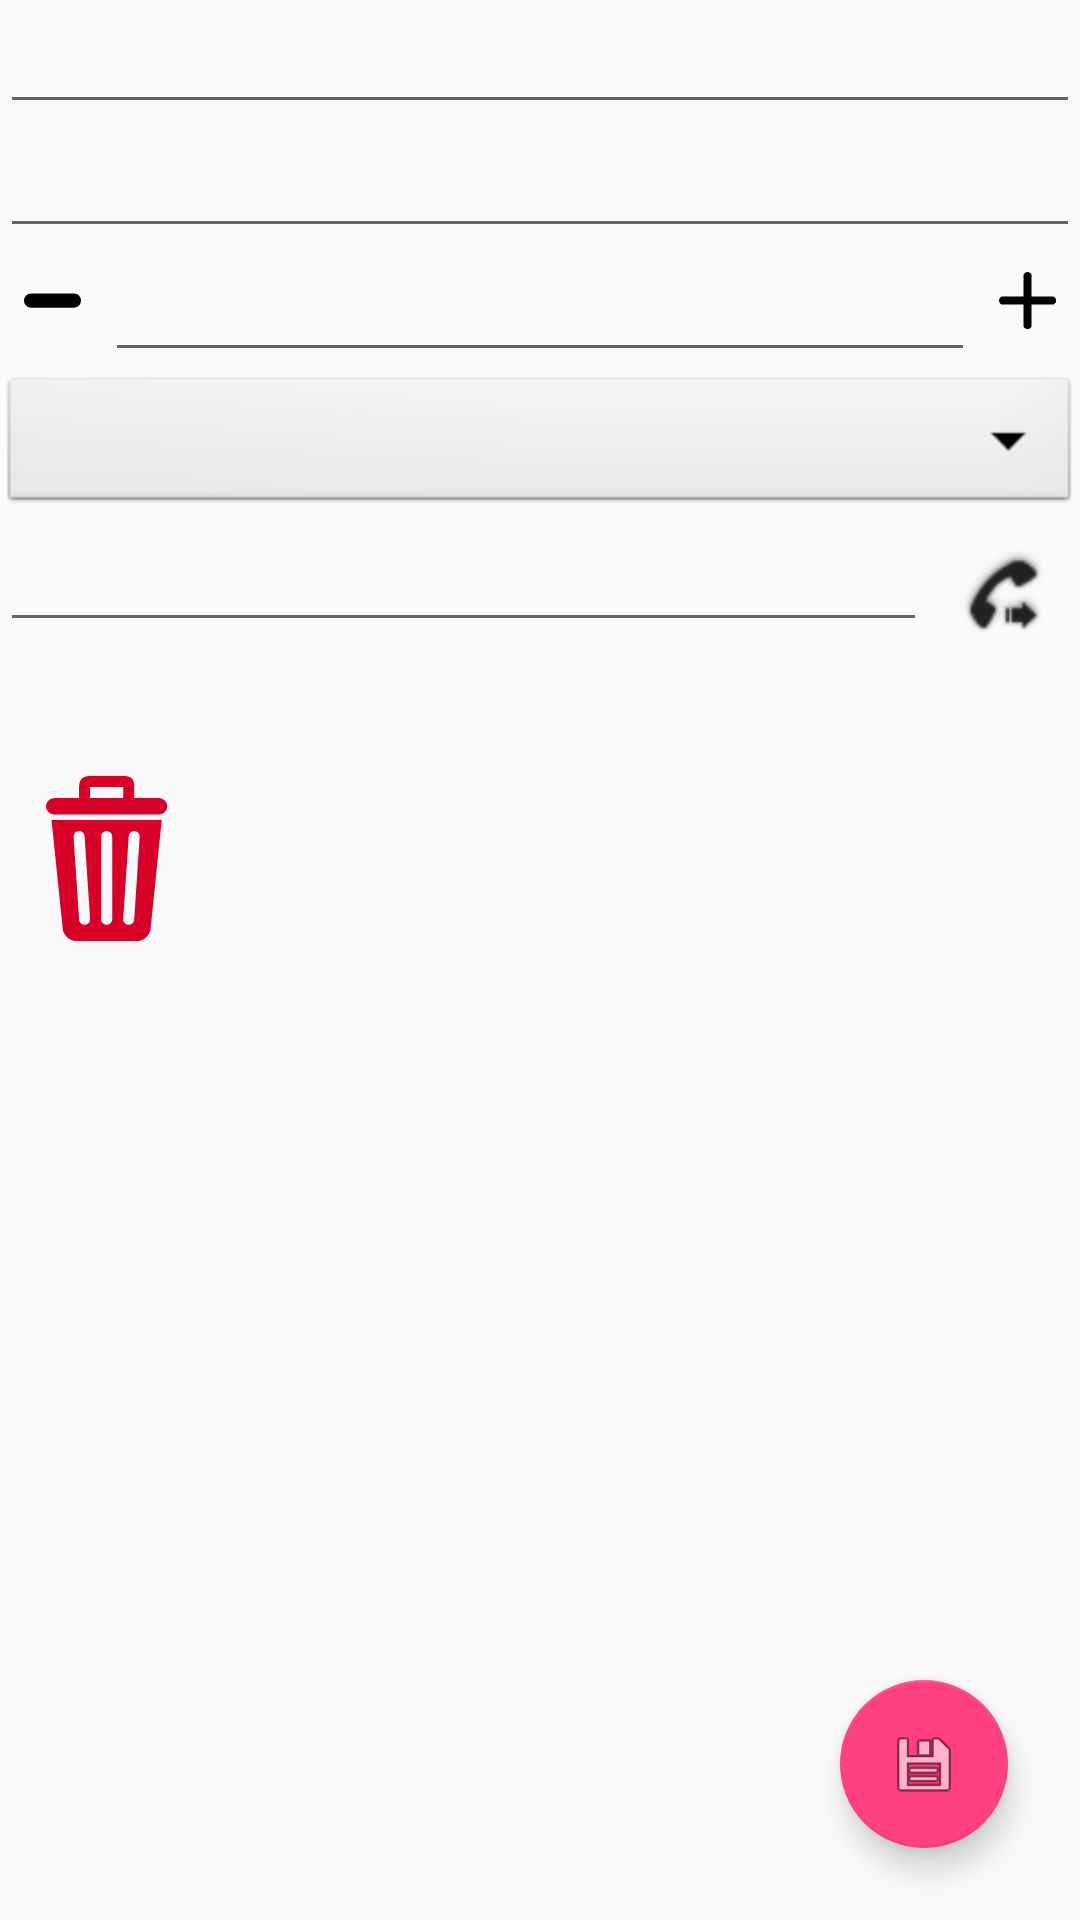

Screen size 1080 × 1920. Icon name, then its center in pixels as point (x, y):
minus: point (52, 300)
phone call forward: point (1003, 592)
plus: point (1027, 300)
save: point (924, 1764)
trashcan: point (107, 858)
